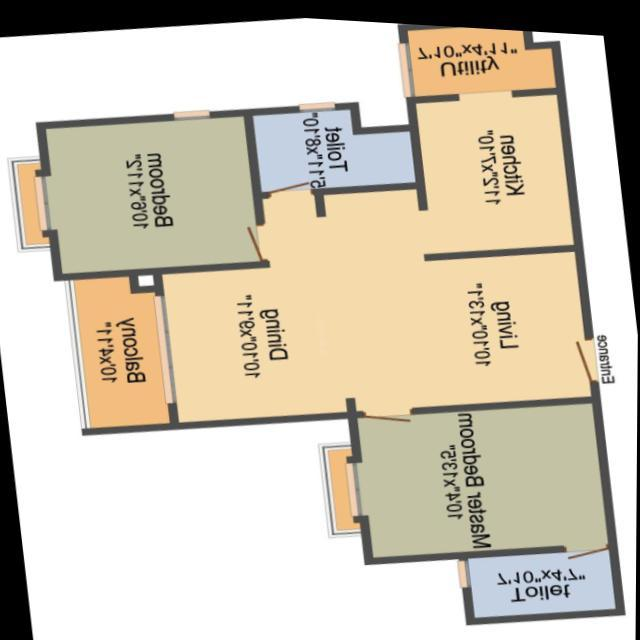Balcony-Sitout: (62, 270, 180, 434)
Bedroom: (31, 104, 266, 281)
Bedroom with Toilet: (345, 389, 616, 560)
Dining: (155, 251, 354, 428)
Kitchen: (403, 80, 578, 256)
Living: (333, 235, 597, 413)
Toilet: (242, 98, 421, 192), (457, 534, 625, 621)
Utility: (392, 19, 565, 95)
